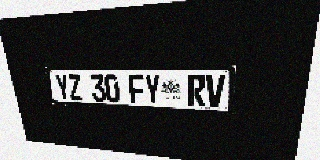0: (103, 74, 120, 103)
3: (90, 74, 106, 102)
F: (128, 74, 145, 104)
R: (188, 75, 206, 106)
V: (206, 75, 225, 107)
Y: (144, 75, 161, 104), (54, 74, 71, 100)
Z: (67, 74, 83, 101)
